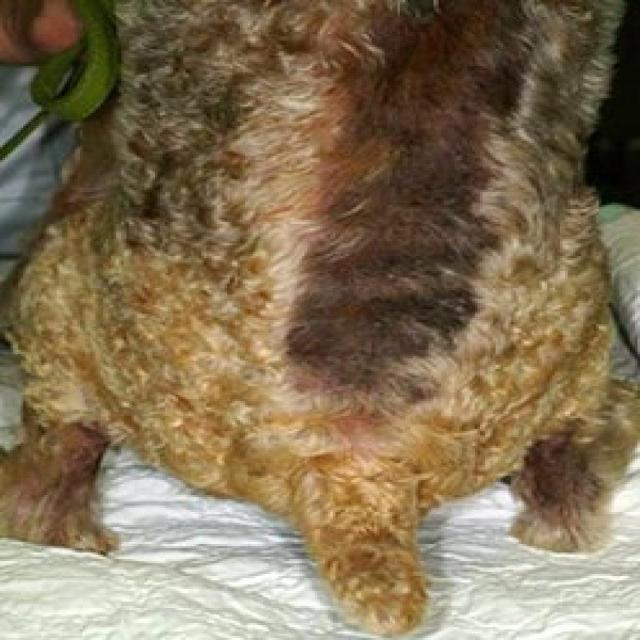allergic dermatitis: (278, 0, 533, 403)
